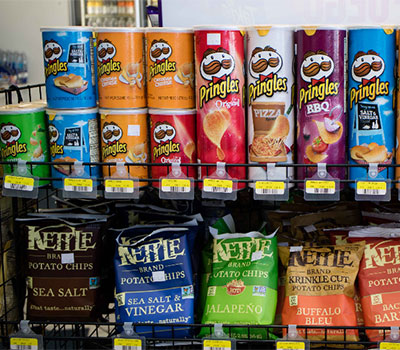chip: (26, 225, 103, 328), (350, 26, 398, 187), (120, 230, 189, 338), (246, 26, 293, 181), (199, 25, 244, 183), (279, 246, 355, 339), (300, 28, 341, 192), (209, 236, 272, 337), (38, 25, 93, 105), (92, 28, 145, 108), (144, 31, 197, 109), (149, 106, 194, 186), (100, 109, 145, 187), (49, 112, 92, 188), (5, 107, 47, 181)
